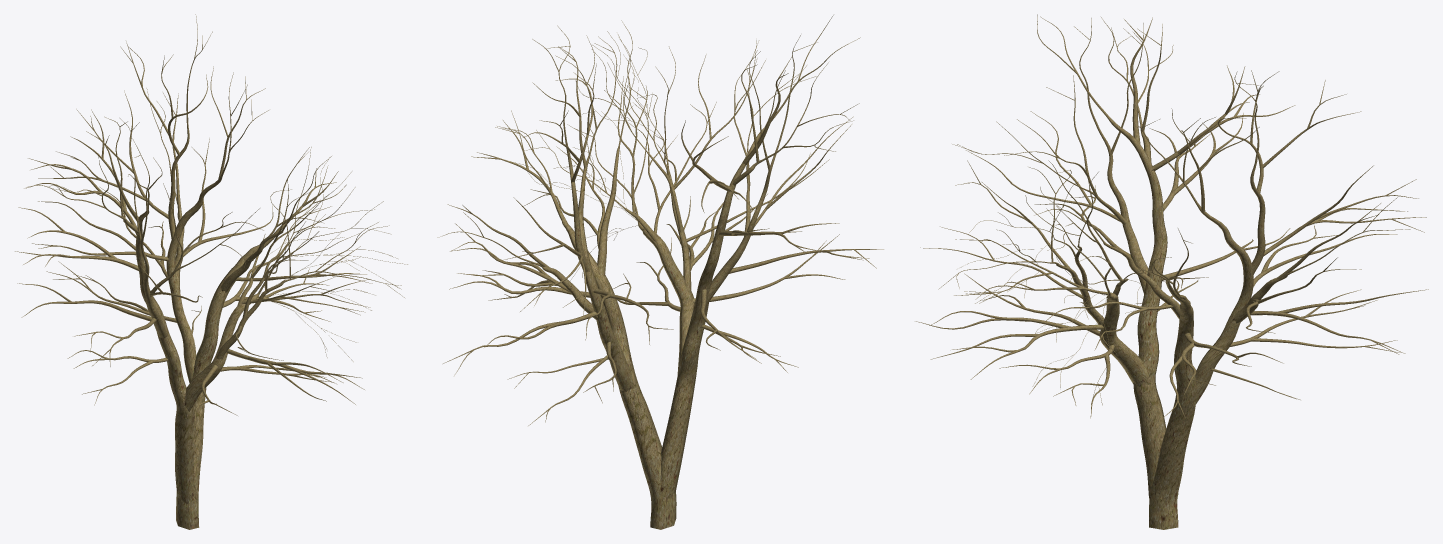
File: easy_world_tree.dae
3 views of the same model, side by side, from view 1: azimuth 30°, elevation 25°; view 2: azimuth 150°, elevation 25°; view 3: azimuth 270°, elevation 25° (orthographic). The views are drawn at different scales.
Visible parts, largest first — view 1: tree; view 2: tree; view 3: tree.
Part boxes in pixels (x1,y1,x2,y2): tree: [15, 14, 407, 529]; tree: [437, 15, 883, 529]; tree: [915, 14, 1428, 529].
Bounding box in the file's own units: 3.95 × 5.2 × 5.42.
1 material, 1 textured.
